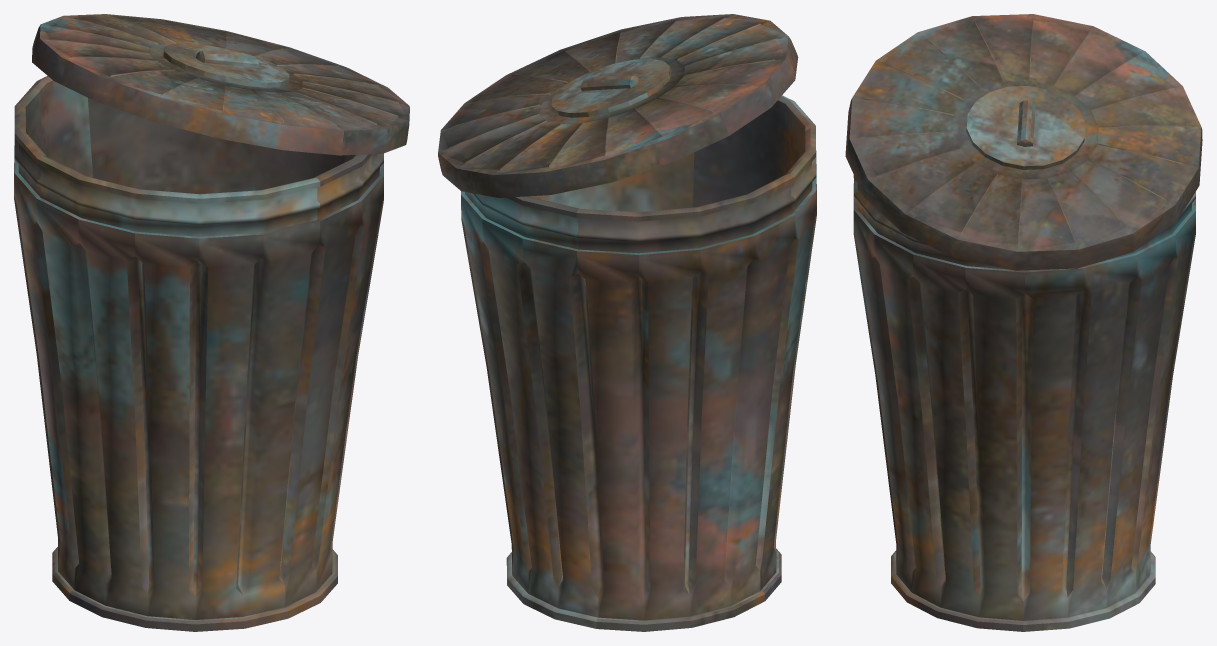
The model's file is thrashbin.fbx.
The picture shows the model from 3 angles, left to right: view 1: azimuth 30°, elevation 25°; view 2: azimuth 150°, elevation 25°; view 3: azimuth 270°, elevation 25°; orthographic projection. The views are drawn at different scales.
Visible parts, largest first — view 1: polySurface11, polySurface10; view 2: polySurface11, polySurface10; view 3: polySurface11, polySurface10.
Boxes of the visible parts, x1,y1,x2,y2 form: polySurface11: (14, 76, 383, 631); polySurface10: (32, 14, 409, 155); polySurface11: (461, 95, 816, 631); polySurface10: (438, 14, 798, 197); polySurface11: (853, 175, 1195, 631); polySurface10: (845, 14, 1202, 270).
Size of the model in its own units: 53.04 by 79.49 by 50.92.
